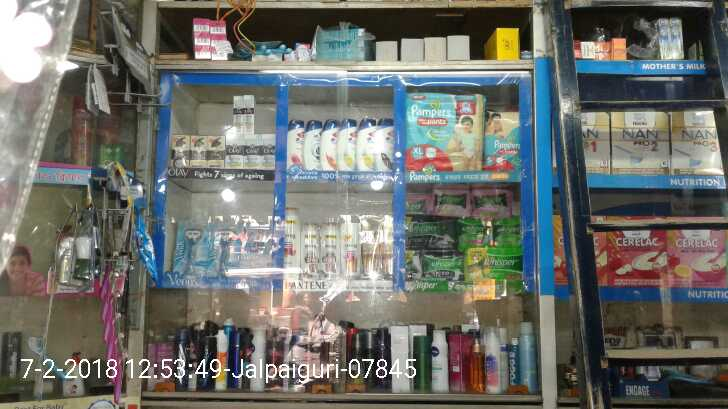gillete: (132, 209, 162, 292), (50, 207, 72, 290), (75, 219, 92, 284)
venus: (103, 280, 132, 404), (178, 220, 208, 276), (208, 226, 239, 276)
